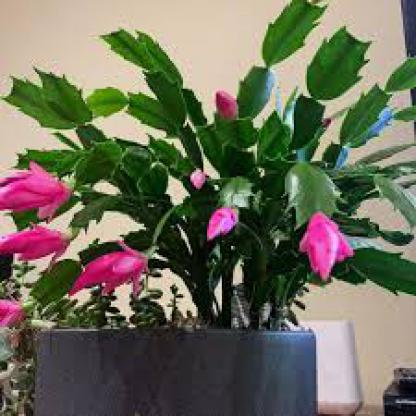Aglonema: (36, 31, 372, 408)
